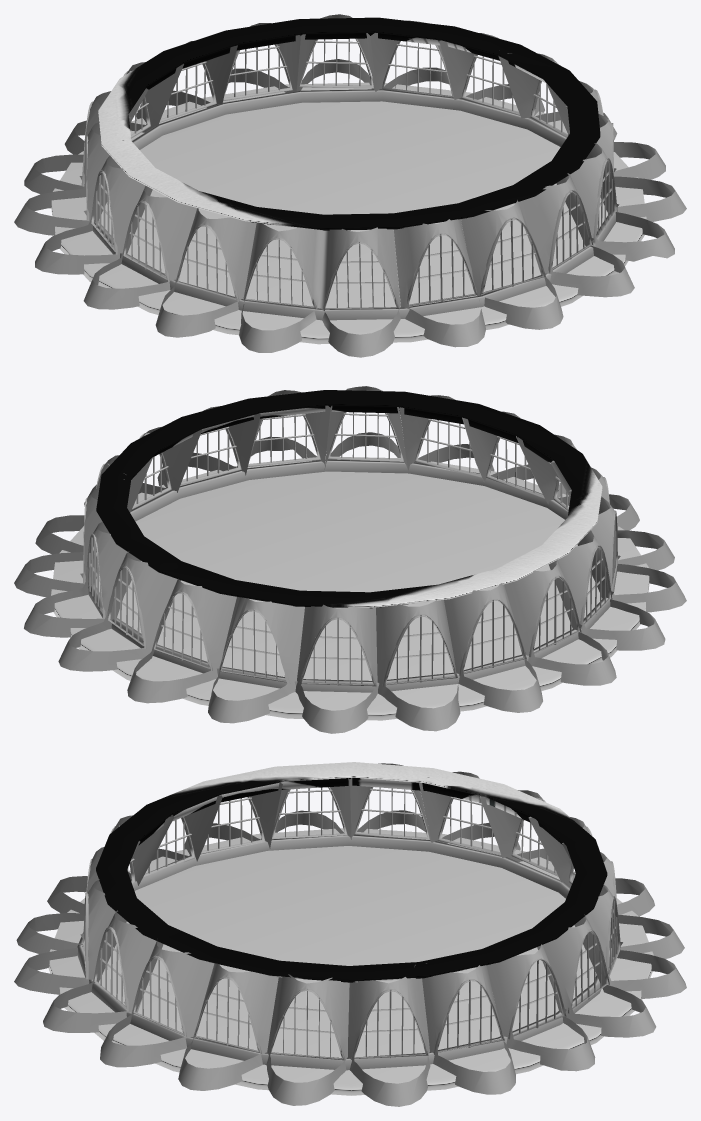
The model's file is Wall 3.fbx.
3 renders of one model, top to bottom at view 1: azimuth 30°, elevation 25°; view 2: azimuth 150°, elevation 25°; view 3: azimuth 270°, elevation 25°, orthographic.
Parts seen in each view (by area): view 1: pasted__polySurface185, polySurface279, polySurface241, polySurface422, polySurface421; view 2: pasted__polySurface185, polySurface279, polySurface241, polySurface422, polySurface421; view 3: pasted__polySurface185, polySurface279, polySurface241, polySurface422, polySurface421.
Boxes of the visible parts, x1,y1,x2,y2 form: pasted__polySurface185: (51,82,646,344); polySurface279: (14,14,686,357); polySurface241: (98,17,600,230); polySurface422: (81,38,617,309); polySurface421: (93,89,615,320); pasted__polySurface185: (51,457,649,720); polySurface279: (14,386,686,733); polySurface241: (96,390,602,608); polySurface422: (83,412,617,686); polySurface421: (88,459,616,692); pasted__polySurface185: (48,828,653,1095); polySurface279: (14,763,686,1106); polySurface241: (96,762,607,982); polySurface422: (82,787,620,1060); polySurface421: (77,834,612,1070).
Bounding box in the file's own units: 1535 × 249 × 1537.
